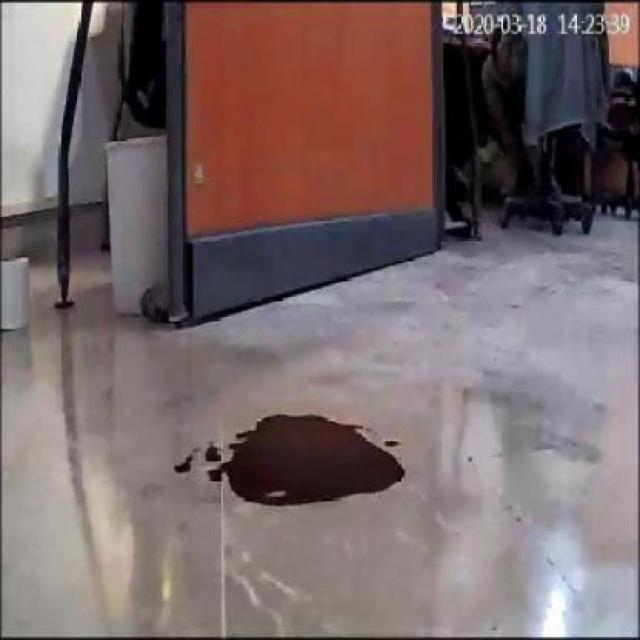spillage: (182, 413, 412, 517)
